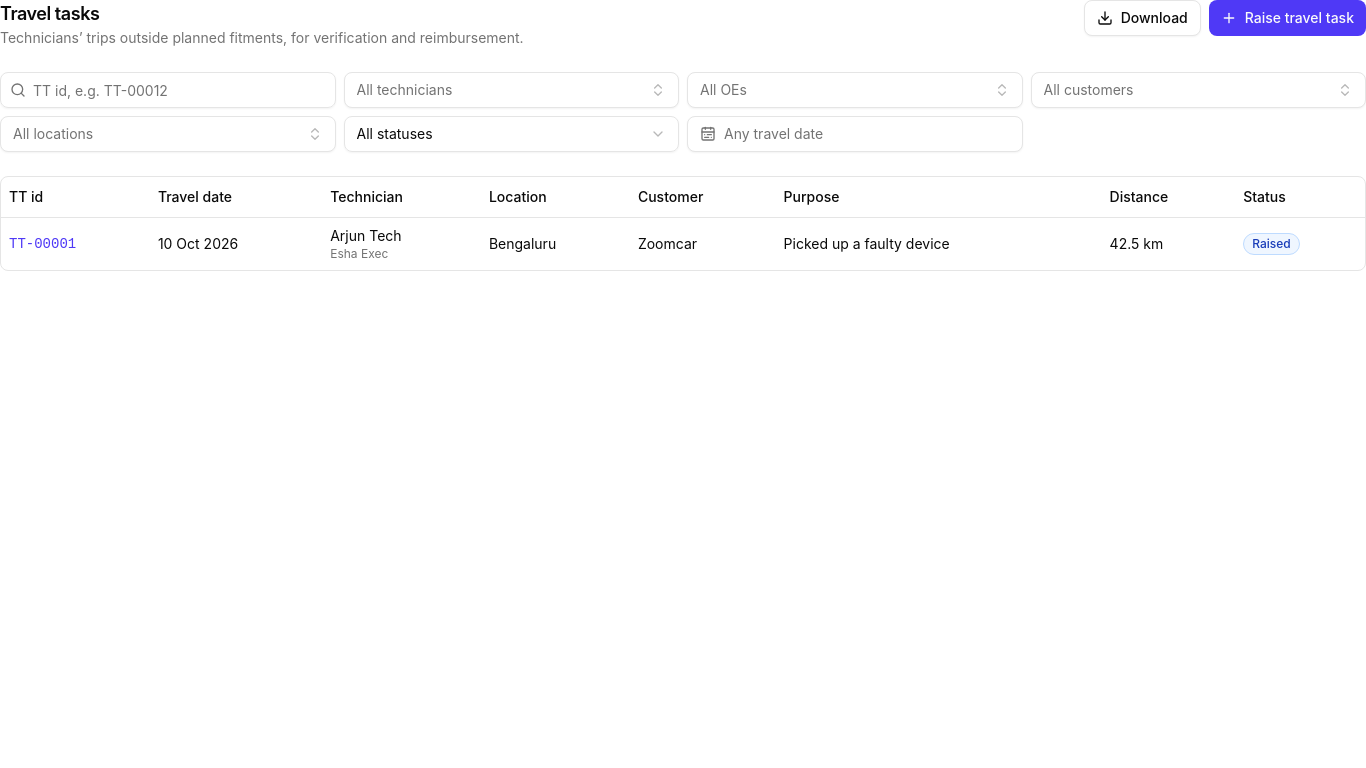
TravelTasksPage › opens the detail sheet from a row (?tt=…); an OM gets the OE filter and Raise
The image size is (1366, 768).
Expected: the dropdown named "Filter by OE" is shown, [687, 72, 1022, 108]
Expected: the button "Raise travel task" is shown, [1209, 0, 1365, 36]
Click the button "TT-00001". click: [43, 244]
box: [9, 234, 76, 254]
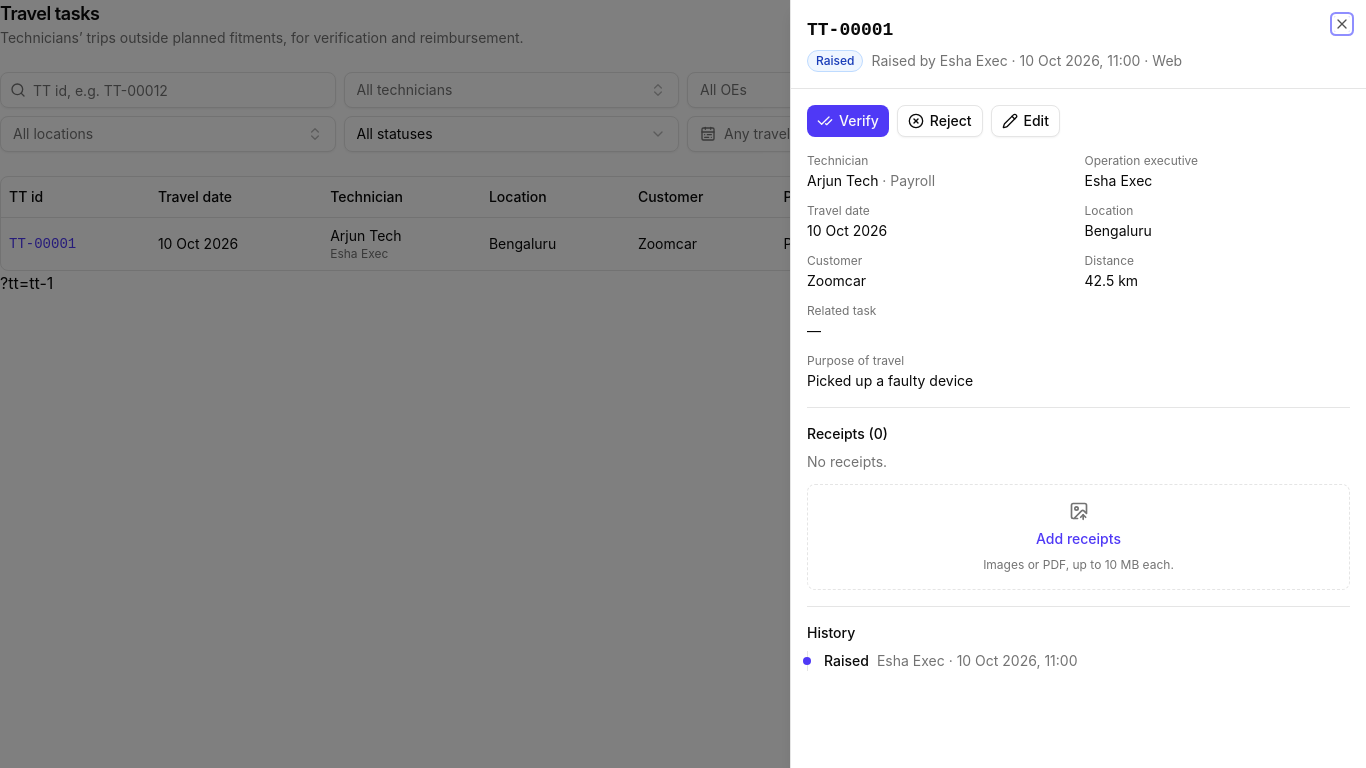
Expected: the dialog with test id "travel-detail" is shown, [790, 0, 1365, 767]
Expected: the text with test id "location" reads "?tt=tt-1", [0, 272, 53, 292]
